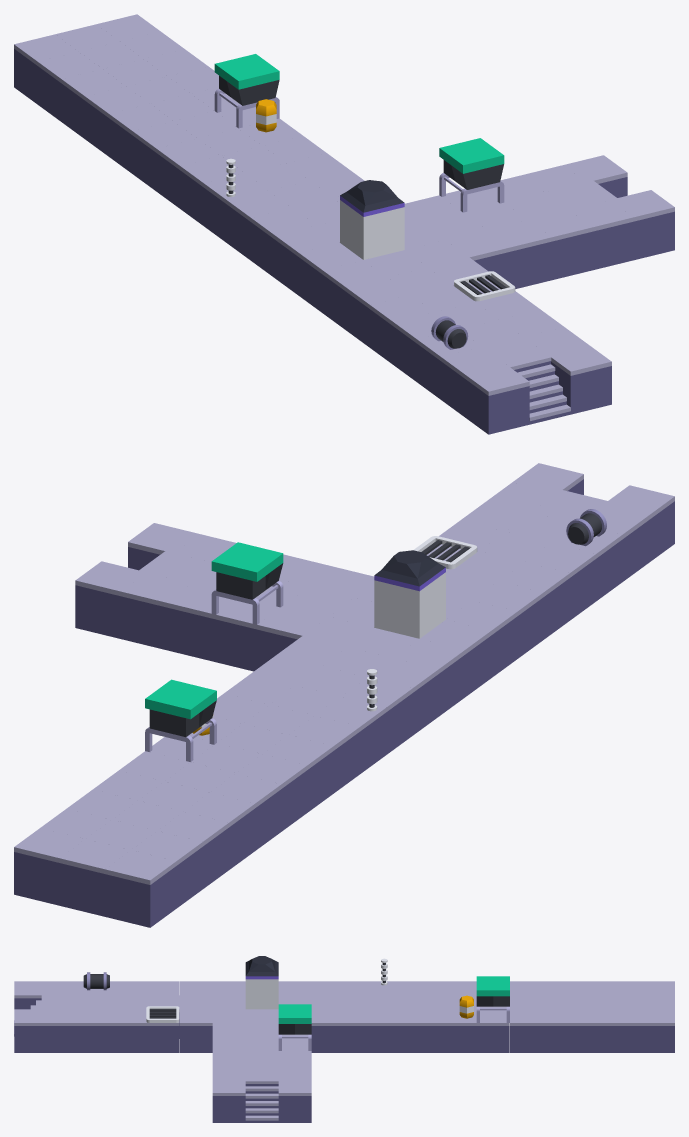
Rendered from room2.obj.
3 renders of one model, top to bottom at view 1: azimuth 30°, elevation 25°; view 2: azimuth 150°, elevation 25°; view 3: azimuth 270°, elevation 25°, orthographic. The views are drawn at different scales.
Visible parts, largest first — view 1: mergedBlocks; view 2: mergedBlocks; view 3: mergedBlocks.
Boxes of the visible parts, bbox=[...] form: mergedBlocks: bbox=[14, 14, 674, 434]; mergedBlocks: bbox=[14, 463, 674, 927]; mergedBlocks: bbox=[14, 956, 674, 1122].
Bounding box in the file's own units: 8.01 × 2.4 × 20.01.
